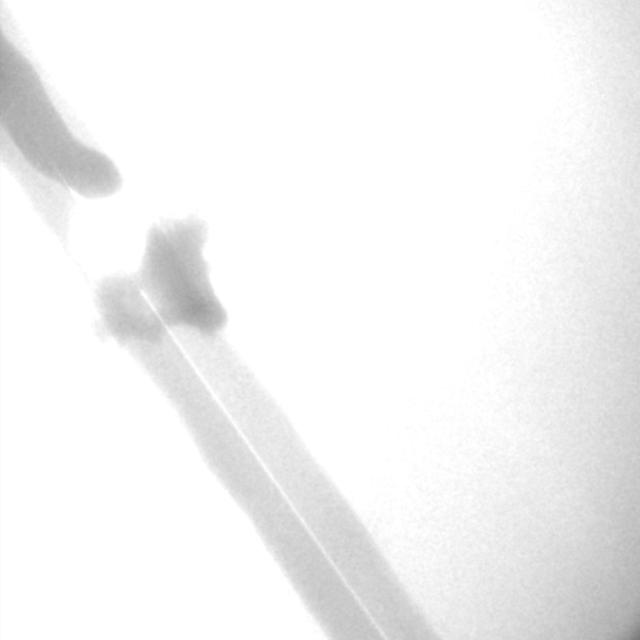broken arc: (68, 185, 385, 636)
